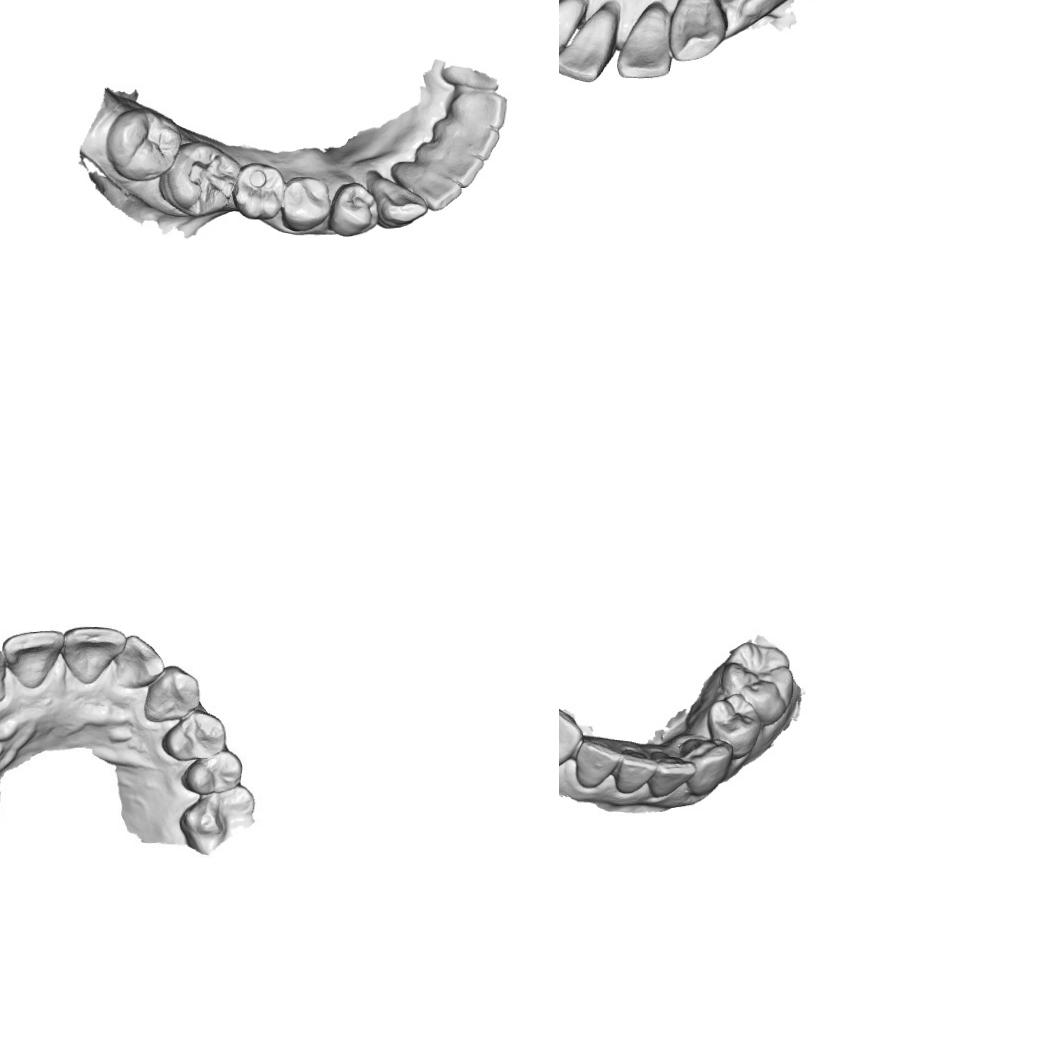canine: (364, 169, 429, 230), (665, 0, 726, 64), (140, 664, 202, 724), (682, 734, 730, 797), (559, 704, 581, 774)
incisor: (58, 621, 128, 690), (616, 8, 672, 80), (1, 626, 65, 689), (559, 11, 614, 84), (112, 632, 169, 692), (648, 747, 696, 800), (570, 738, 618, 790), (450, 90, 508, 130), (612, 746, 652, 794), (419, 175, 463, 212), (446, 153, 484, 188), (464, 125, 500, 161), (559, 3, 575, 70), (0, 645, 10, 705)
inlay: (184, 150, 236, 216)
molar: (719, 640, 795, 727), (104, 104, 182, 182), (178, 787, 260, 856)
premolar: (161, 707, 232, 763), (704, 691, 762, 756), (231, 161, 286, 221), (179, 751, 246, 796), (280, 175, 331, 233), (328, 181, 379, 238)
